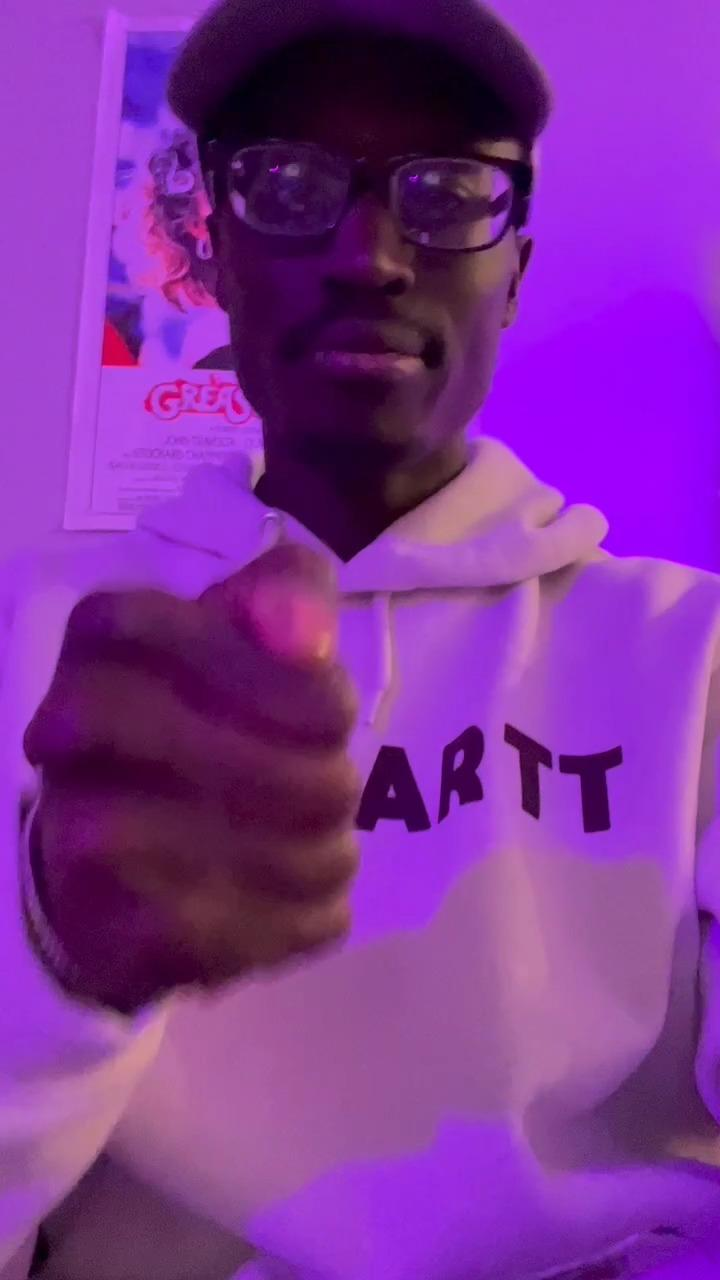Rock: (22, 532, 360, 993)
